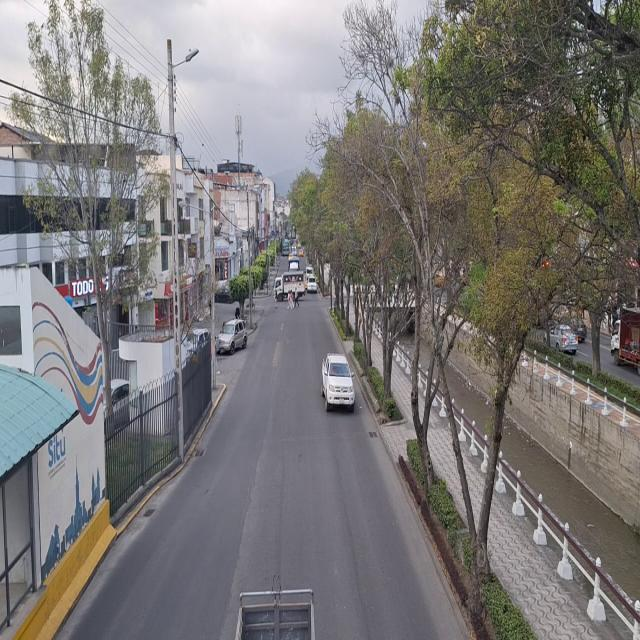CMT: (322, 352, 354, 410)
SUV: (219, 320, 245, 353), (308, 276, 318, 293)
TRUCK: (274, 274, 305, 300)
